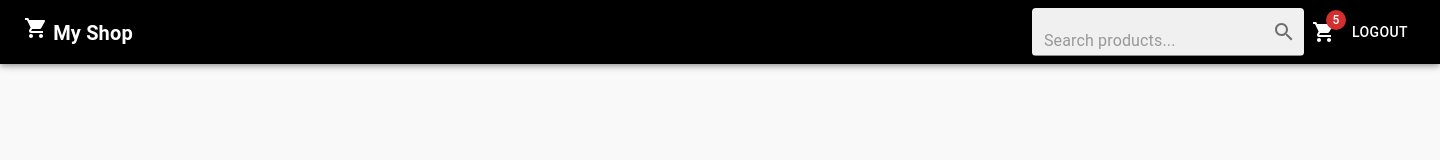
Test: Navbar Component › clears search text when clear icon is clicked
The width and height of the screenshot is (1440, 160).
Type "Clear this text" into the field with placeholder "Search products..." at x=1148, y=32, box [1032,8,1264,56]
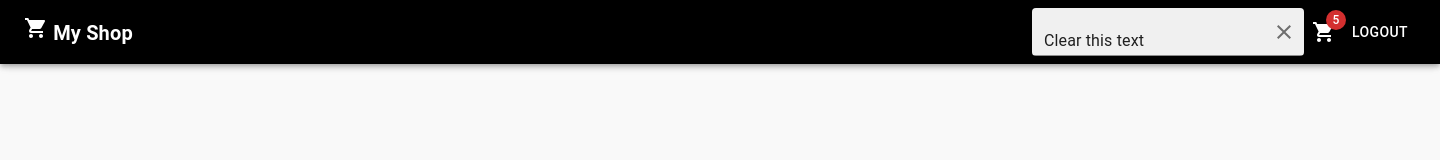
Expected: the button named "clear" is shown
Click the button named "clear" at x=1284, y=32, box [1264,12,1304,52]
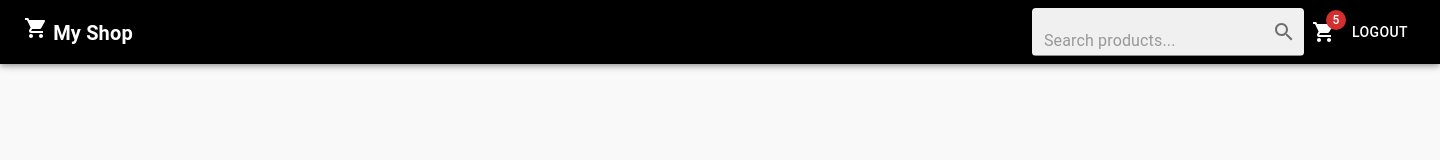
Expected: the field with placeholder "Search products..." is empty, [1032,8,1264,56]
